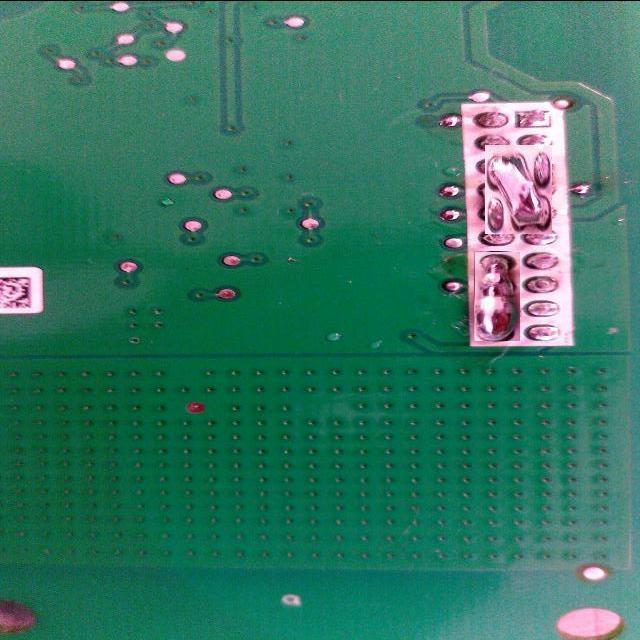Short_circuit: (480, 150, 558, 229), (474, 251, 520, 341)
